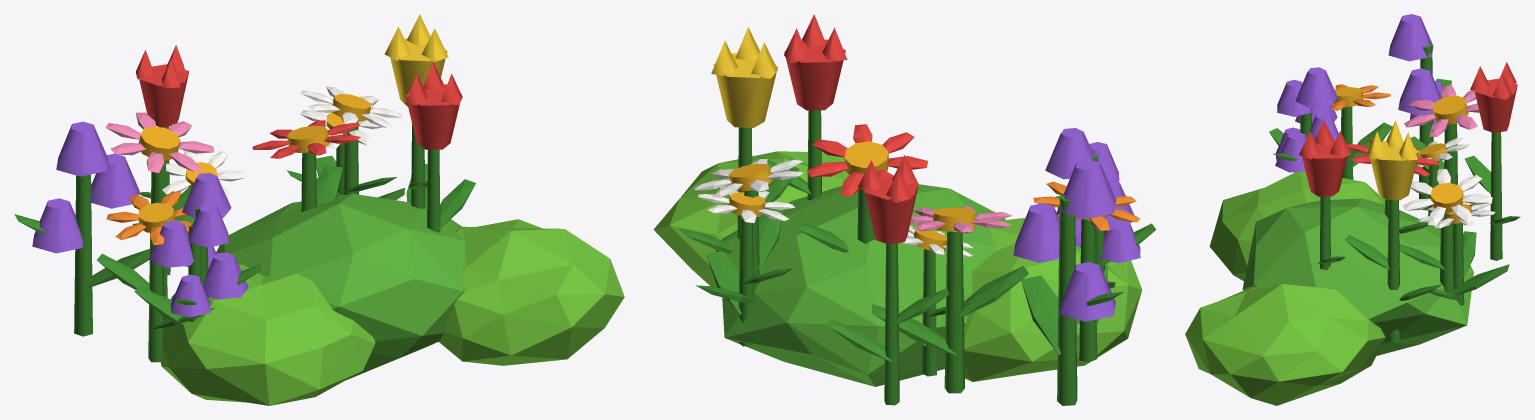
File: macizo_flores.glb
3 views of the same model, side by side, from view 1: azimuth 30°, elevation 25°; view 2: azimuth 150°, elevation 25°; view 3: azimuth 270°, elevation 25° (orthographic). The views are drawn at different scales.
Visible parts, largest first — view 1: mata_1, mata_2, mata_3, tallo (×7), copa (×3), campana_3 (×3), campana_1 (×3), campana_2 (×2), centro (×4), hoja_2 (×3), hoja_1 (×2); view 2: mata_1, tallo (×10), mata_3, copa (×3), mata_2, hoja_1 (×5), campana_1 (×3), centro (×5), hoja_2 (×4), campana_3 (×2), campana_2 (×2), punta_3 (×3) (+3 smaller); view 3: mata_1, mata_2, tallo (×8), mata_3, copa (×3), campana_1 (×3), hoja_2 (×5), centro (×4), campana_2 (×2), campana_3, punta_2 (×2), punta_1 (×2) (+2 smaller).
Boxes of the visible parts, left/top/right/bottom form: mata_1: left=216, top=193, right=465, bottom=379; mata_2: left=438, top=219, right=624, bottom=365; mata_3: left=161, top=264, right=375, bottom=405; tallo (×7): left=74, top=121, right=440, bottom=362; copa (×3): left=139, top=38, right=461, bottom=149; campana_3 (×3): left=32, top=198, right=248, bottom=317; campana_1 (×3): left=56, top=121, right=231, bottom=247; campana_2 (×2): left=90, top=153, right=194, bottom=267; centro (×4): left=138, top=94, right=370, bottom=232; hoja_2 (×3): left=97, top=165, right=475, bottom=289; hoja_1 (×2): left=81, top=249, right=184, bottom=326; mata_1: left=716, top=184, right=1005, bottom=386; tallo (×10): left=737, top=110, right=1097, bottom=405; mata_3: left=964, top=218, right=1142, bottom=381; copa (×3): left=713, top=39, right=918, bottom=244; mata_2: left=653, top=151, right=849, bottom=286; hoja_1 (×5): left=678, top=228, right=1078, bottom=361; campana_1 (×3): left=1045, top=128, right=1119, bottom=219; centro (×5): left=728, top=141, right=975, bottom=250; hoja_2 (×4): left=758, top=207, right=1028, bottom=325; campana_3 (×2): left=1059, top=224, right=1140, bottom=321; campana_2 (×2): left=1013, top=179, right=1133, bottom=262; punta_3 (×3): left=751, top=14, right=911, bottom=202; mata_1: left=1242, top=198, right=1473, bottom=355; mata_2: left=1185, top=284, right=1385, bottom=405; tallo (×8): left=1320, top=43, right=1502, bottom=342; mata_3: left=1209, top=171, right=1384, bottom=280; copa (×3): left=1300, top=78, right=1517, bottom=200; campana_1 (×3): left=1277, top=14, right=1433, bottom=116; hoja_2 (×5): left=1344, top=122, right=1501, bottom=275; centro (×4): left=1333, top=87, right=1468, bottom=212; campana_2 (×2): left=1310, top=68, right=1441, bottom=140; campana_3: left=1275, top=132, right=1306, bottom=172; punta_2 (×2): left=1329, top=131, right=1386, bottom=159; punta_1 (×2): left=1314, top=120, right=1417, bottom=160.
Bounding box in the file's own units: 2 × 1.1 × 1.36.
